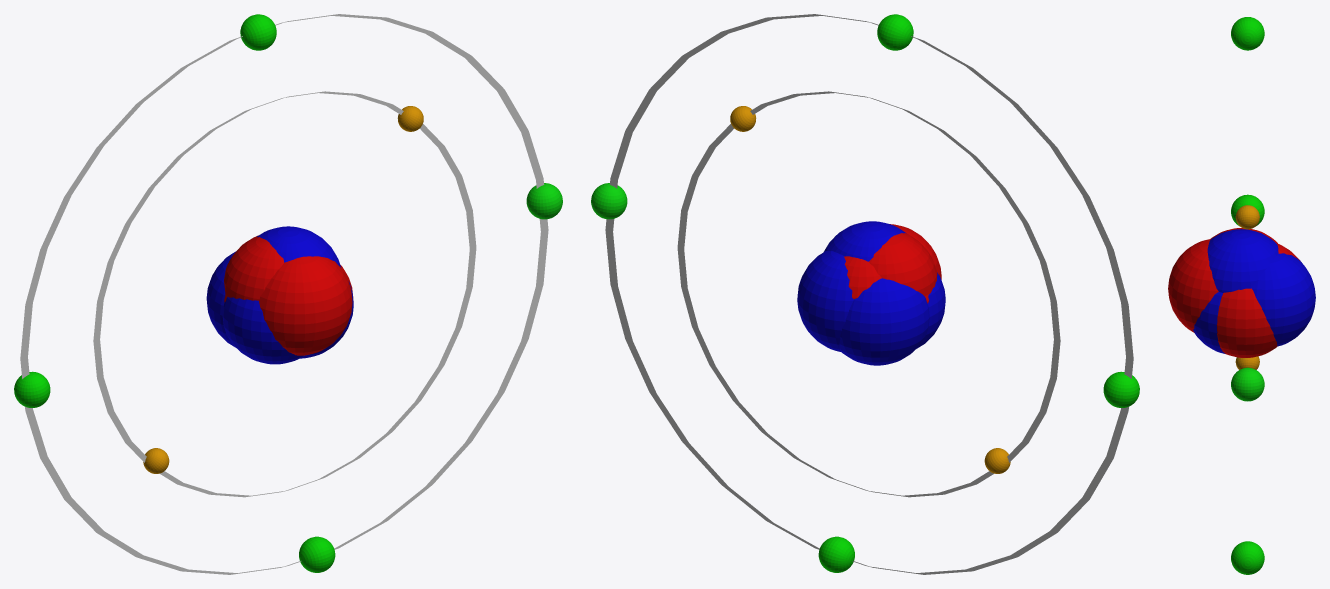
The model's file is Carbono_2.obj.
3 renders of one model, left to right at view 1: azimuth 30°, elevation 25°; view 2: azimuth 150°, elevation 25°; view 3: azimuth 270°, elevation 25°, orthographic. The views are drawn at different scales.
Visible parts, largest first — view 1: Circle_Circle.002, Sphere.002_Sphere.390, Circle.001_Circle.003, Sphere.023_Sphere.414, Sphere.008_Sphere.401, Sphere.004_Sphere.392, Sphere.006_Sphere.399, Sphere.009_Sphere.407, Sphere.027_Sphere.415; view 2: Circle_Circle.002, Sphere.009_Sphere.407, Circle.001_Circle.003, Sphere.023_Sphere.414, Sphere.010_Sphere.408, Sphere.004_Sphere.392, Sphere.006_Sphere.399, Sphere.027_Sphere.415, Sphere.001_Sphere.389, Sphere.008_Sphere.401; view 3: Sphere.010_Sphere.408, Sphere.006_Sphere.399, Sphere.023_Sphere.414, Sphere.003_Sphere.391, Sphere.002_Sphere.390, Sphere.007_Sphere.400, Sphere.027_Sphere.415.
Boxes of the visible parts, left/top/right/bottom form: Circle_Circle.002: left=20, top=14, right=548, bottom=574; Sphere.002_Sphere.390: left=259, top=256, right=352, bottom=355; Circle.001_Circle.003: left=93, top=91, right=476, bottom=497; Sphere.023_Sphere.414: left=14, top=14, right=562, bottom=572; Sphere.008_Sphere.401: left=222, top=297, right=303, bottom=364; Sphere.004_Sphere.392: left=224, top=237, right=284, bottom=300; Sphere.006_Sphere.399: left=257, top=226, right=341, bottom=267; Sphere.009_Sphere.407: left=206, top=251, right=236, bottom=347; Sphere.027_Sphere.415: left=143, top=106, right=423, bottom=473; Circle_Circle.002: left=605, top=14, right=1133, bottom=574; Sphere.009_Sphere.407: left=839, top=278, right=929, bottom=365; Circle.001_Circle.003: left=677, top=91, right=1060, bottom=497; Sphere.023_Sphere.414: left=591, top=14, right=1139, bottom=572; Sphere.010_Sphere.408: left=797, top=251, right=853, bottom=351; Sphere.004_Sphere.392: left=869, top=233, right=937, bottom=296; Sphere.006_Sphere.399: left=824, top=221, right=906, bottom=261; Sphere.027_Sphere.415: left=730, top=106, right=1010, bottom=473; Sphere.001_Sphere.389: left=844, top=256, right=881, bottom=298; Sphere.008_Sphere.401: left=916, top=272, right=945, bottom=348; Sphere.010_Sphere.408: left=1251, top=253, right=1315, bottom=346; Sphere.006_Sphere.399: left=1207, top=229, right=1278, bottom=292; Sphere.023_Sphere.414: left=1231, top=17, right=1264, bottom=574; Sphere.003_Sphere.391: left=1216, top=288, right=1277, bottom=357; Sphere.002_Sphere.390: left=1168, top=238, right=1218, bottom=332; Sphere.007_Sphere.400: left=1193, top=292, right=1225, bottom=353; Sphere.027_Sphere.415: left=1235, top=205, right=1259, bottom=369.
Size of the model in its own units: 4.78 by 4.78 by 1.21.
